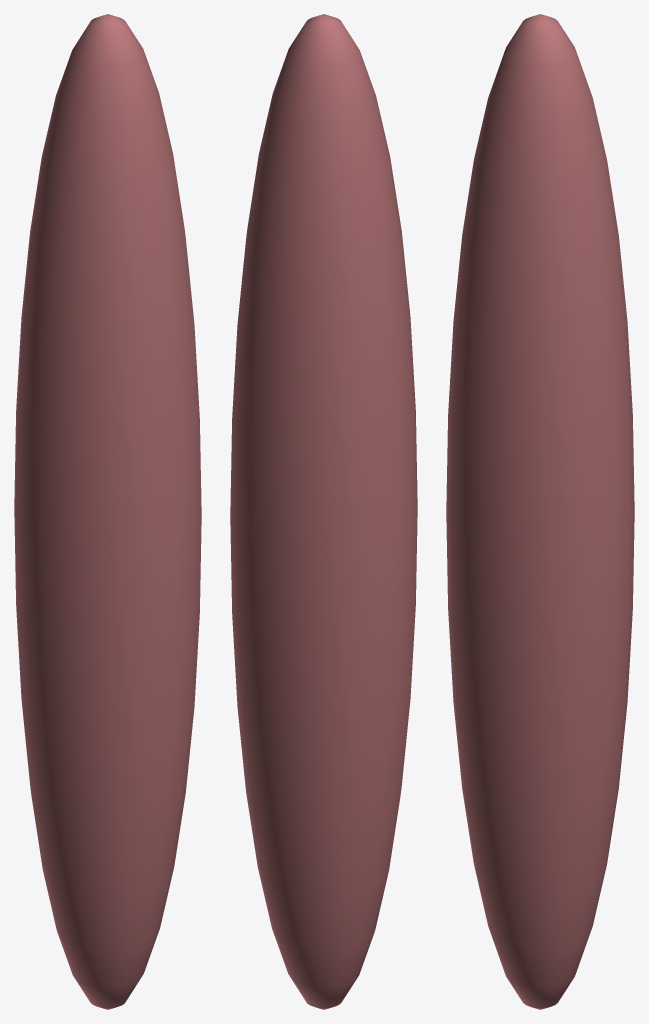
File: capillary.glb
3 renders of one model, left to right at view 1: azimuth 30°, elevation 25°; view 2: azimuth 150°, elevation 25°; view 3: azimuth 270°, elevation 25°, orthographic.
Parts seen in each view (by area): view 1: micro-capillary; view 2: micro-capillary; view 3: micro-capillary.
Boxes of the visible parts, left/top/right/bottom form: micro-capillary: left=14, top=14, right=201, bottom=1009; micro-capillary: left=230, top=14, right=417, bottom=1009; micro-capillary: left=446, top=14, right=634, bottom=1009.
Bounding box in the file's own units: 0.24 × 1.4 × 0.24.
